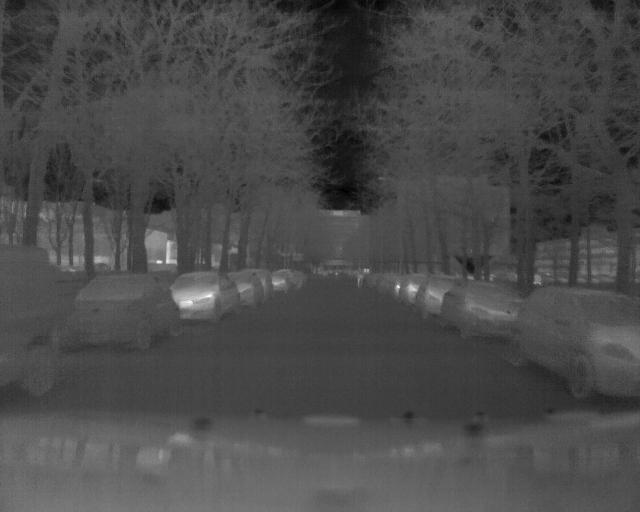car: (512, 283, 640, 405), (69, 270, 187, 345), (439, 281, 532, 344), (167, 271, 241, 321), (414, 271, 470, 321), (223, 266, 264, 309), (400, 274, 446, 309)
